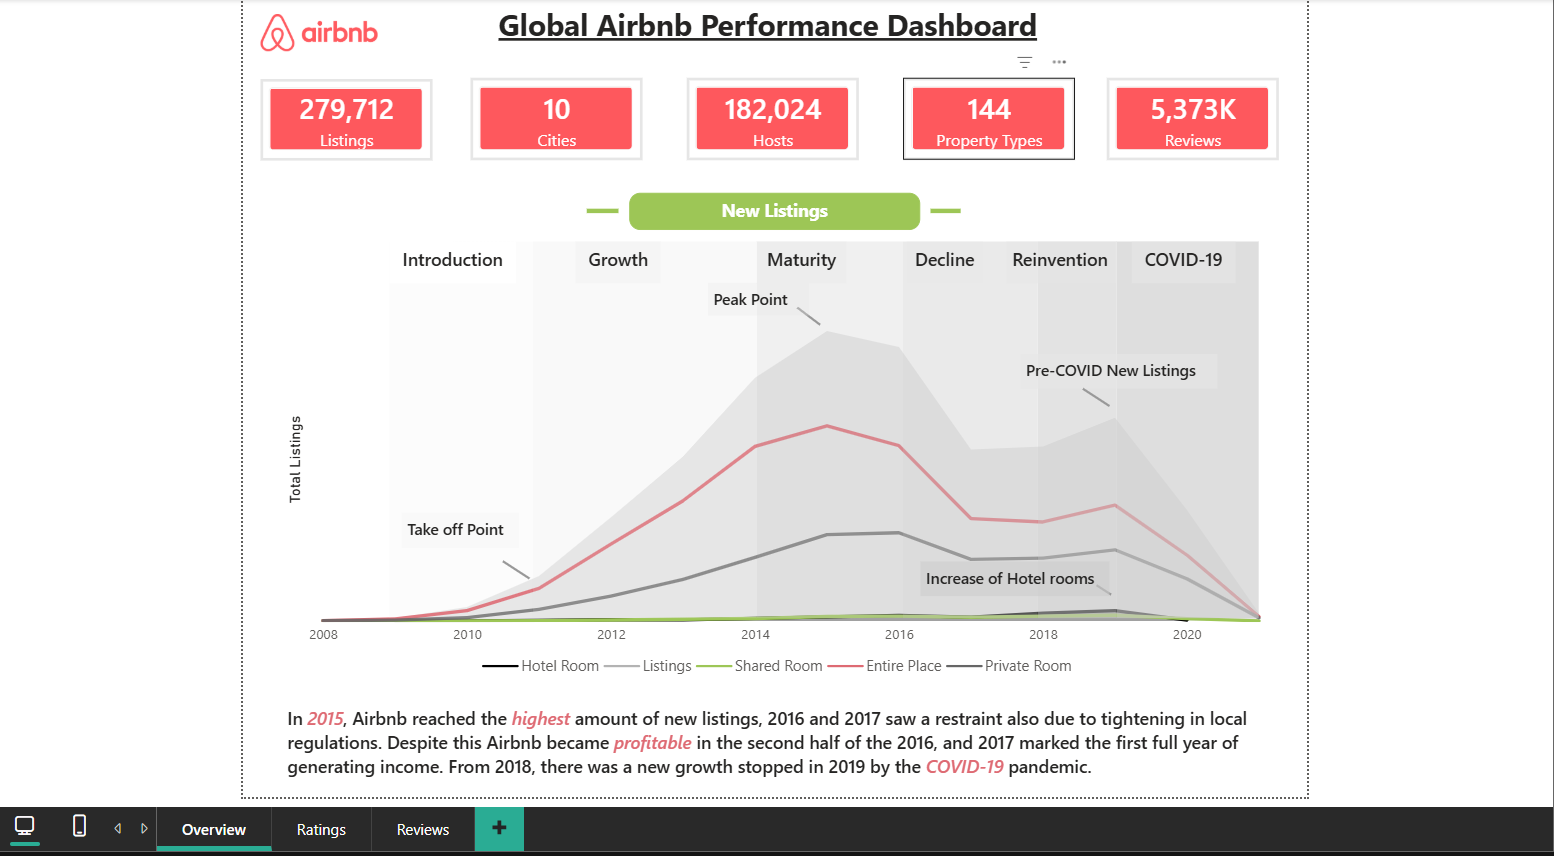

The dashboard page shown, as its layout file describes it:
{"tool":"powerbi","page":{"name":"Overview","canvas":[960,720],"ordinal":0},"visuals":[{"type":"textbox","box":[225.2,0,506.3,47.3],"z":0},{"type":"image","box":[16.2,13.7,105.7,33.6],"z":1000},{"type":"cardVisual","fields":{"Data":["CountNonNull(Listings.listing_id)"]},"box":[16.2,72.1,155.5,73.4],"z":2000},{"type":"cardVisual","fields":{"Data":["Count(Listings.city)"]},"box":[205.3,70.9,155.5,74.6],"z":3000},{"type":"cardVisual","fields":{"Data":["Count(Listings.host_id)"]},"box":[399.9,70.9,155.5,74.6],"z":4000},{"type":"cardVisual","fields":{"Data":["Count(Listings.property_type)"]},"box":[594.6,70.9,155.5,74.6],"z":5000},{"type":"cardVisual","fields":{"Data":["Count(Reviews.review_id)"]},"box":[778.7,70.9,155.5,74.6],"z":6000},{"type":"lineChart","fields":{"Category":["Listings.host_since.Variation.Date Hierarchy.Year"],"Y":["Listings.Hotel Room","CountNonNull(Listings.listing_id)","Listings.Shared Room","Listings.Entire Place","Listings.Private Room"]},"box":[34.8,256.3,899.4,364.5],"z":7000},{"type":"textbox","box":[348.8,174.2,262.5,33.6],"z":8000},{"type":"shape","box":[309.7,166.7,28.6,48.5],"z":9000},{"type":"shape","box":[619.5,166.7,27.4,48.5],"z":10000},{"type":"shape","box":[131.9,218.9,129.4,339.6],"z":11000},{"type":"shape","box":[261.2,218.9,201.5,339.6],"z":12000},{"type":"shape","box":[462.8,218.9,131.9,339.6],"z":13000},{"type":"shape","box":[594.6,218.9,121.9,339.6],"z":14000},{"type":"shape","box":[716.5,218.9,70.9,339.6],"z":15000},{"type":"shape","box":[787.4,218.9,128.1,339.6],"z":16000},{"type":"textbox","box":[131.9,218.9,114.4,37.3],"z":17000},{"type":"textbox","box":[299.8,218.9,77.1,37.3],"z":18000},{"type":"textbox","box":[462.8,218.9,80.9,37.3],"z":19000},{"type":"textbox","box":[598.3,218.9,68.4,37.3],"z":20000},{"type":"textbox","box":[689.2,218.9,98.3,37.3],"z":21000},{"type":"textbox","box":[801.1,218.9,93.3,37.3],"z":22000},{"type":"textbox","box":[701.6,319.7,177.9,31.1],"z":23000},{"type":"shape","box":[750.1,350.8,37.3,17.4],"z":24000},{"type":"shape","box":[491.4,277.4,37.3,17.4],"z":25000},{"type":"textbox","box":[419.2,256.3,90.8,29.9],"z":26000},{"type":"shape","box":[227.6,506.3,37.3,17.4],"z":27000},{"type":"textbox","box":[143.1,462.8,105.7,32.3],"z":28000},{"type":"textbox","box":[34.8,631.9,880.7,84.6],"z":29000},{"type":"shape","box":[768.8,523.7,14.9,17.4],"z":30000},{"type":"textbox","box":[611.2,507.5,170,31.2],"z":31000}]}

Visuals, with their boxes on the page's 960x720 design canvas (x1, y1, x2, y2). These are canvas units, not pixel positions in the 1554x856 screenshot, which may show the page scaled, cropped or inside an application window:
textbox: 225:0:732:47
image: 16:14:122:47
cardVisual - CountNonNull(Listings.listing_id): 16:72:172:146
cardVisual - Count(Listings.city): 205:71:361:146
cardVisual - Count(Listings.host_id): 400:71:555:146
cardVisual - Count(Listings.property_type): 595:71:750:146
cardVisual - Count(Reviews.review_id): 779:71:934:146
lineChart - Listings.host_since.Variation.Date Hierarchy.Year x Listings.Hotel Room: 35:256:934:621
textbox: 349:174:611:208
shape: 310:167:338:215
shape: 620:167:647:215
shape: 132:219:261:558
shape: 261:219:463:558
shape: 463:219:595:558
shape: 595:219:716:558
shape: 716:219:787:558
shape: 787:219:916:558
textbox: 132:219:246:256
textbox: 300:219:377:256
textbox: 463:219:544:256
textbox: 598:219:667:256
textbox: 689:219:788:256
textbox: 801:219:894:256
textbox: 702:320:880:351
shape: 750:351:787:368
shape: 491:277:529:295
textbox: 419:256:510:286
shape: 228:506:265:524
textbox: 143:463:249:495
textbox: 35:632:916:716
shape: 769:524:784:541
textbox: 611:508:781:539
